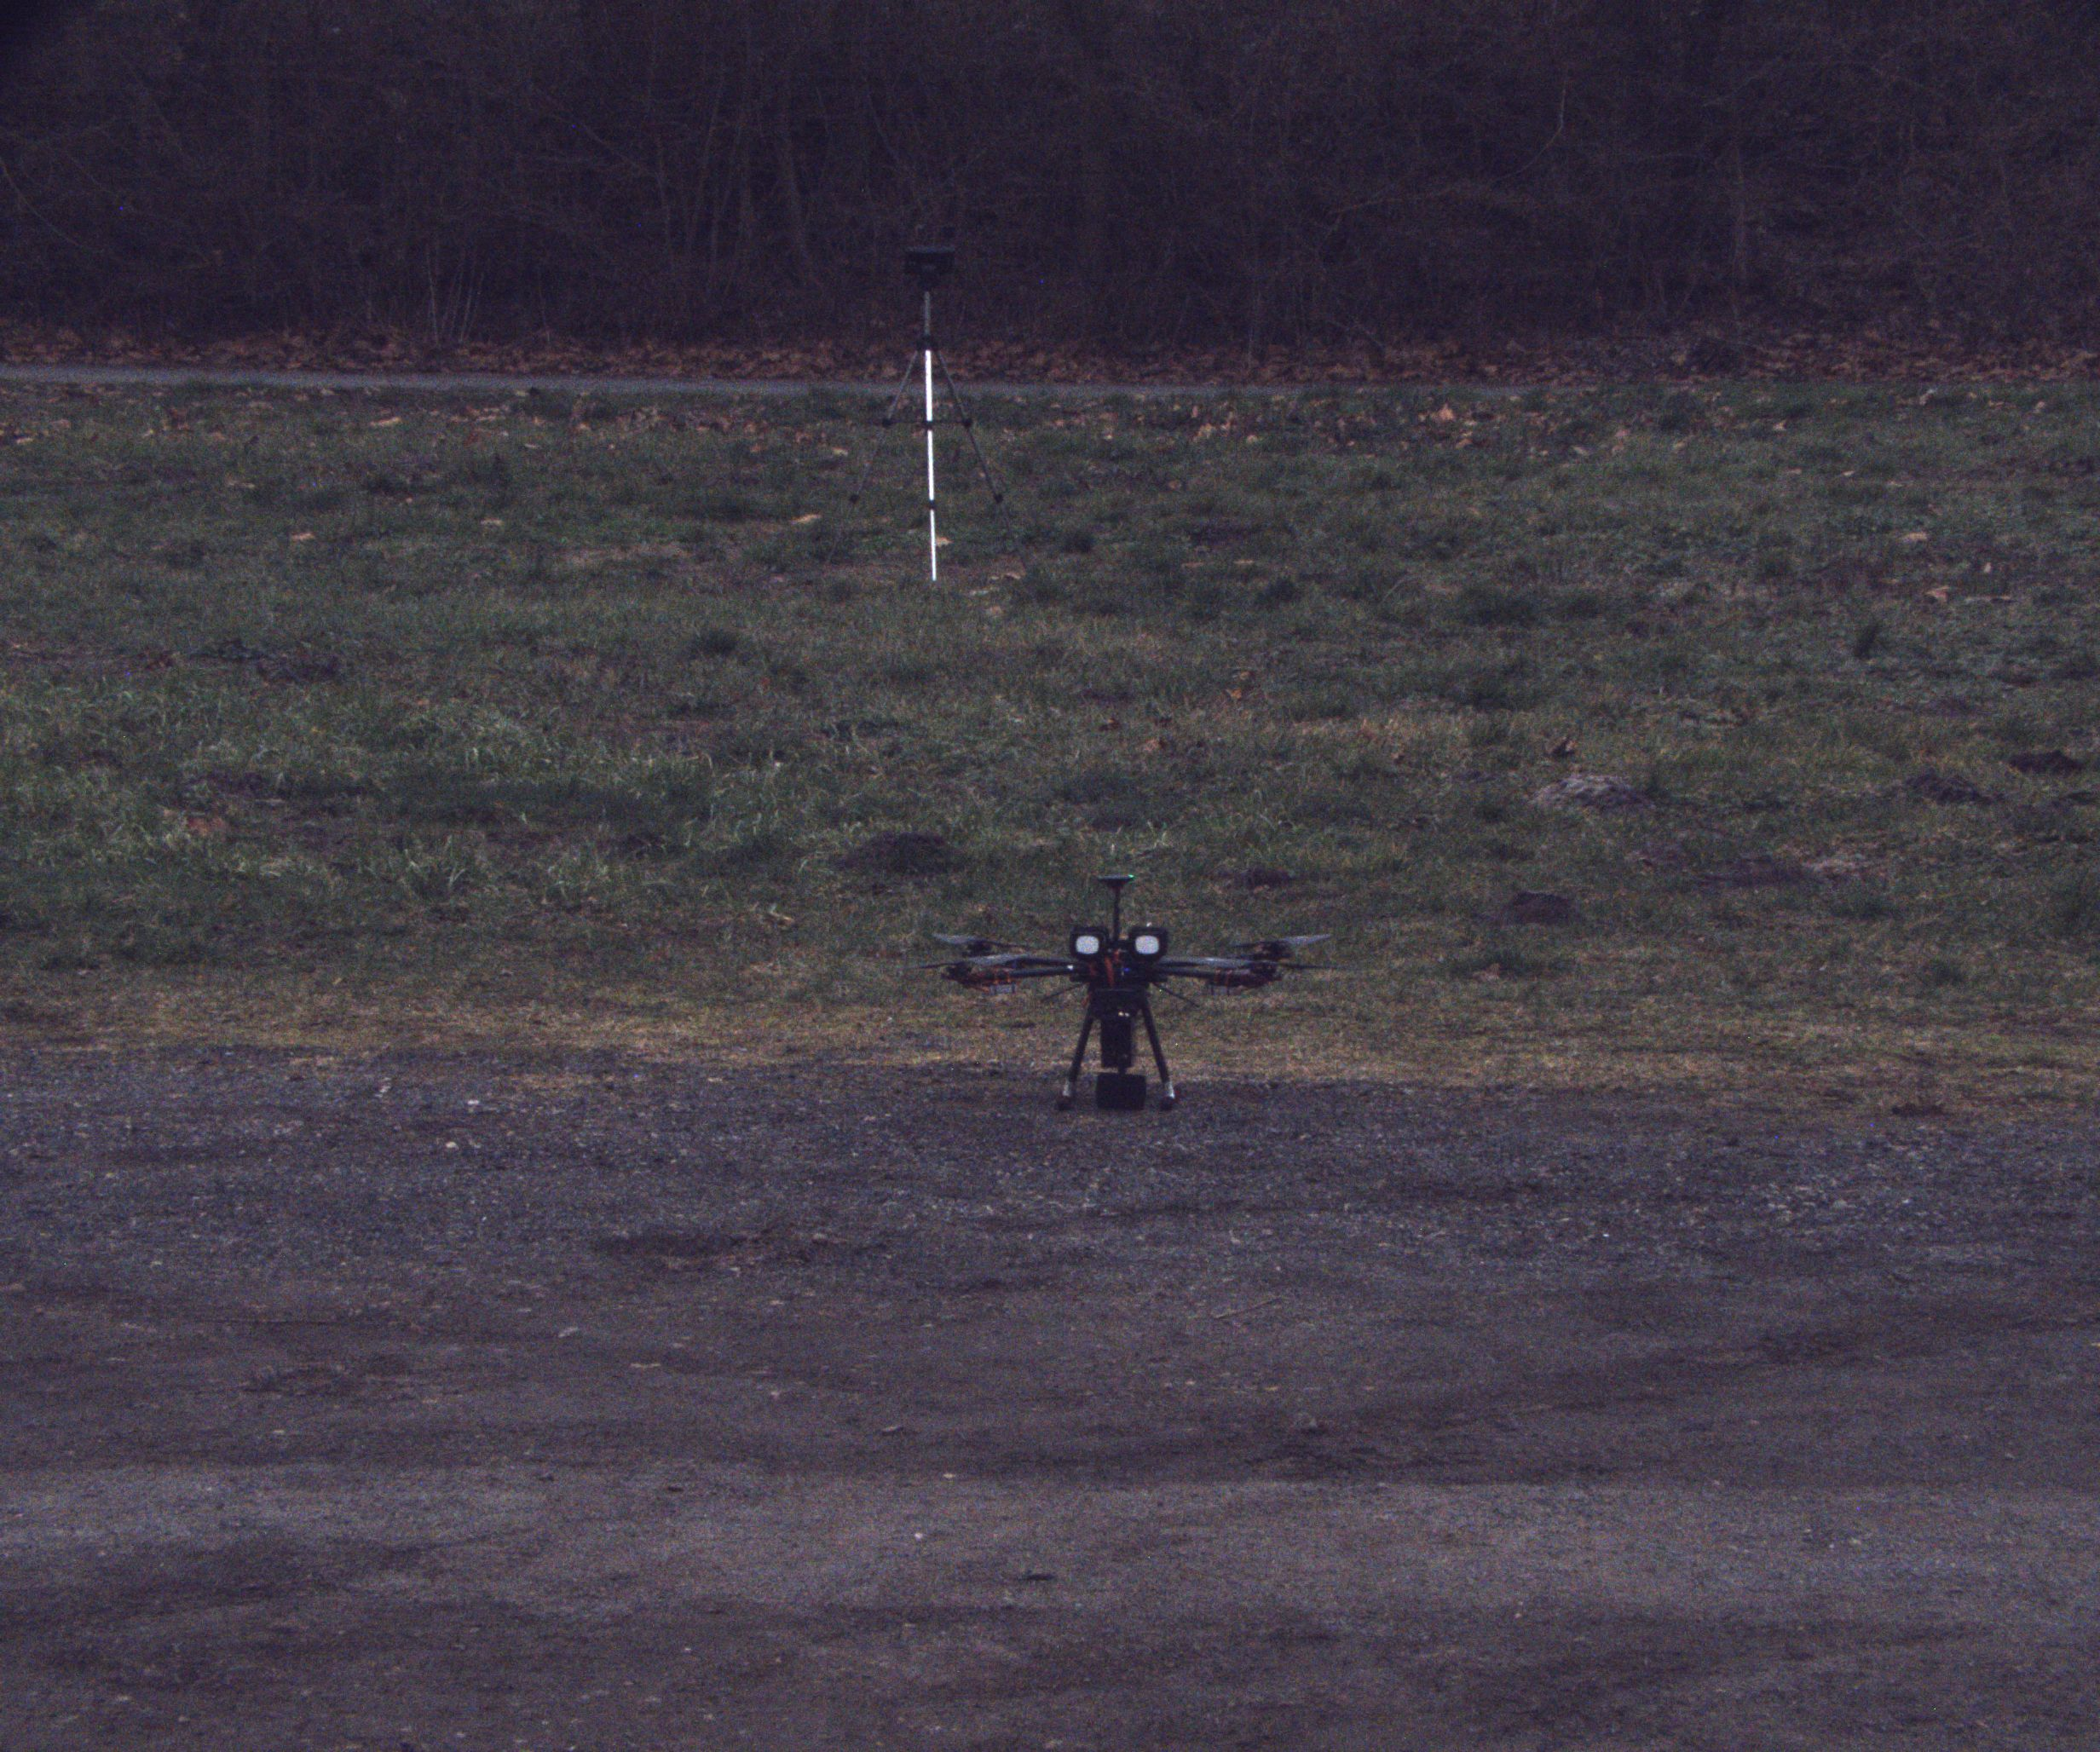Drohne: (907, 863, 1385, 1217)
